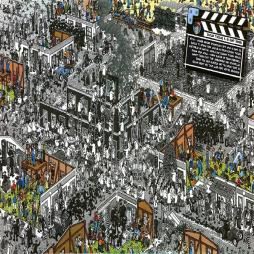odlaw: (156, 76, 160, 84)
wally: (193, 22, 201, 34), (239, 181, 242, 189)
wenda: (182, 156, 186, 162)
wizard_whitebeard: (55, 38, 60, 48)
